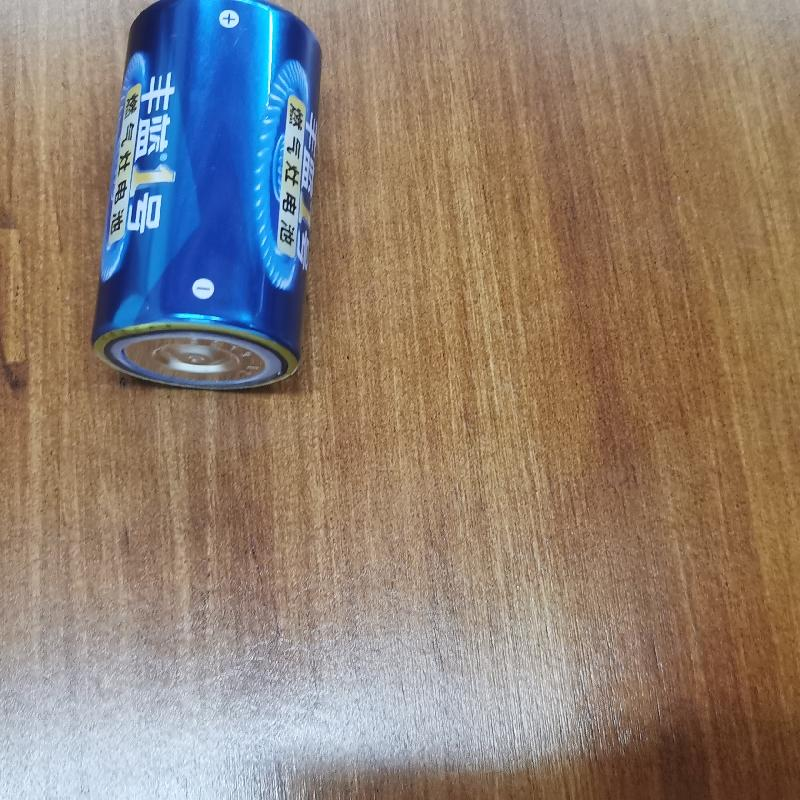battery: (90, 0, 318, 389)
